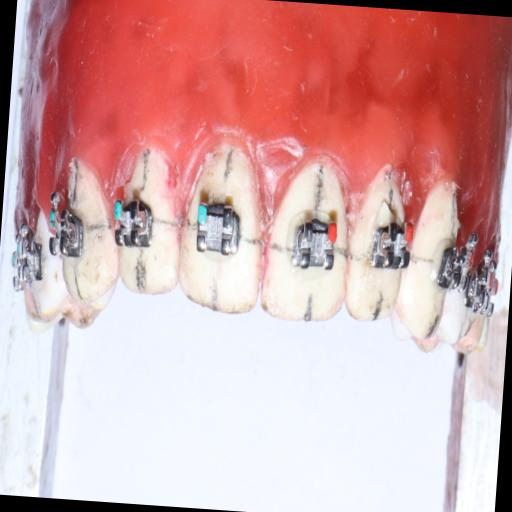incorrect_brace: (286, 206, 340, 282), (194, 190, 244, 262)
